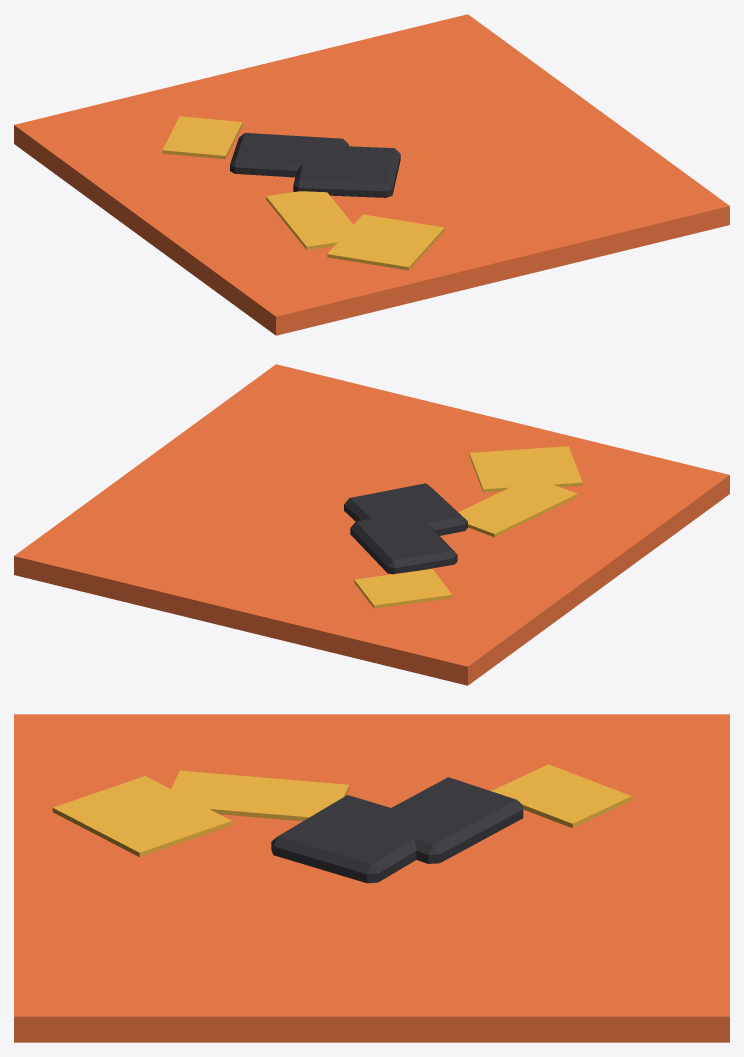
File: lava.glb
3 renders of one model, top to bottom at view 1: azimuth 30°, elevation 25°; view 2: azimuth 150°, elevation 25°; view 3: azimuth 270°, elevation 25°, orthographic. The views are drawn at different scales.
Visible parts, largest first — view 1: glow-lava, lava; view 2: glow-lava, lava; view 3: glow-lava, lava.
Boxes of the visible parts, x1,y1,x2,y2 form: glow-lava: (14,14,729,335); lava: (230,133,400,197); glow-lava: (14,364,729,685); lava: (344,483,467,574); glow-lava: (14,714,729,1042); lava: (271,777,523,883).
Bounding box in the file's own units: 1 × 0.065 × 1.
Materials: 1 (1 with a texture image).
